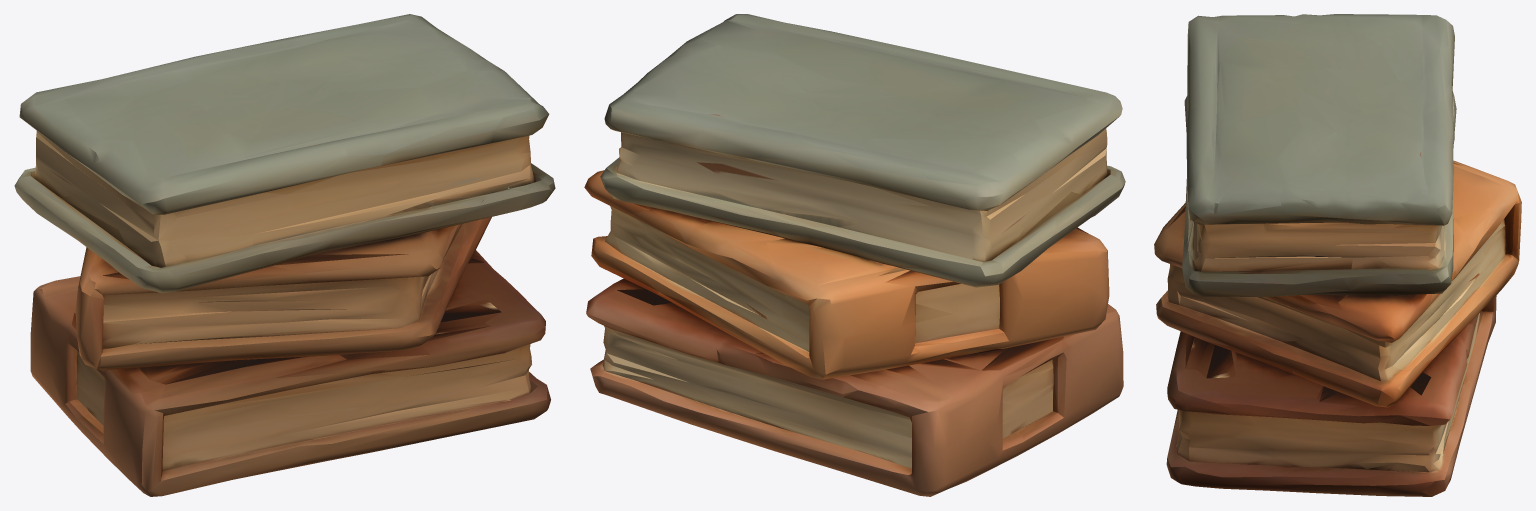
The model's file is book_stack.glb.
The picture shows the model from 3 angles, left to right: view 1: azimuth 30°, elevation 25°; view 2: azimuth 150°, elevation 25°; view 3: azimuth 270°, elevation 25°; orthographic projection. The views are drawn at different scales.
Visible parts, largest first — view 1: tripo_node_d8274ba1-c7f6-404a-ba33-35ecb12ad6b3; view 2: tripo_node_d8274ba1-c7f6-404a-ba33-35ecb12ad6b3; view 3: tripo_node_d8274ba1-c7f6-404a-ba33-35ecb12ad6b3.
Boxes of the visible parts, x1,y1,x2,y2 form: tripo_node_d8274ba1-c7f6-404a-ba33-35ecb12ad6b3: [14, 14, 555, 496]; tripo_node_d8274ba1-c7f6-404a-ba33-35ecb12ad6b3: [584, 14, 1125, 496]; tripo_node_d8274ba1-c7f6-404a-ba33-35ecb12ad6b3: [1154, 14, 1521, 496].
Bounding box in the file's own units: 0.3397 × 0.2205 × 0.2398.
1 material, 1 textured.
